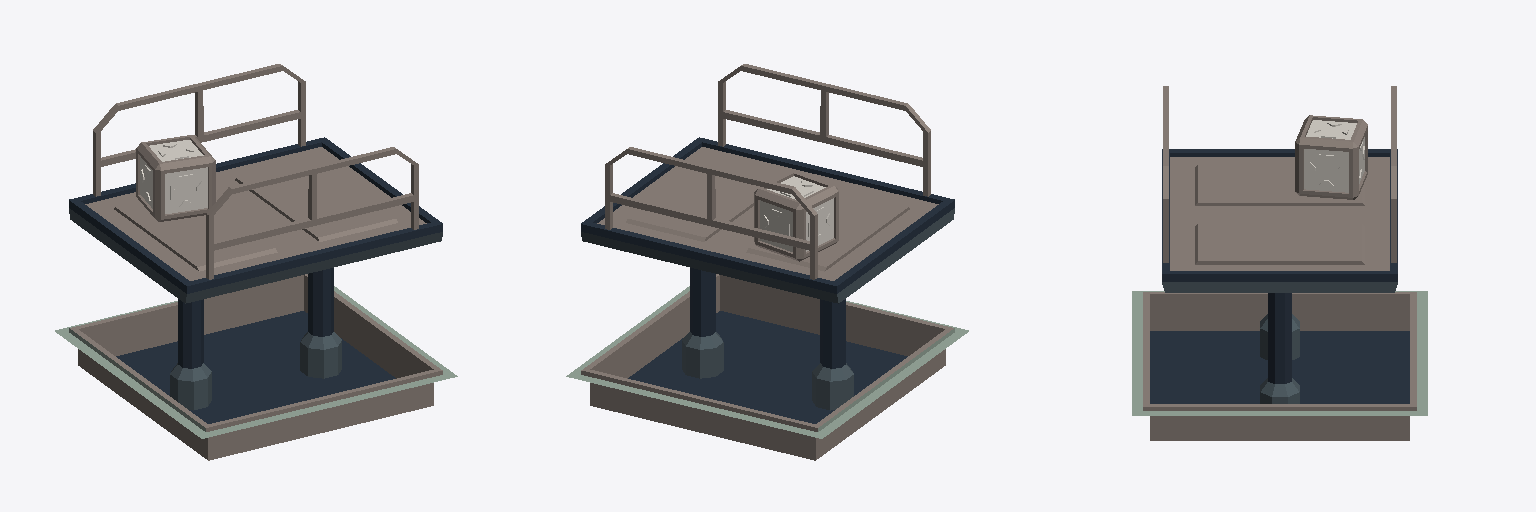
3 renders of one model, left to right at view 1: azimuth 30°, elevation 25°; view 2: azimuth 150°, elevation 25°; view 3: azimuth 270°, elevation 25°, orthographic.
Parts seen in each view (by area): view 1: Cube.003_Cube.002; view 2: Cube.003_Cube.002; view 3: Cube.003_Cube.002.
Part boxes in pixels (left/top/right/bottom): Cube.003_Cube.002: left=55, top=64, right=457, bottom=460; Cube.003_Cube.002: left=566, top=64, right=968, bottom=460; Cube.003_Cube.002: left=1132, top=86, right=1427, bottom=440.
Bounding box in the file's own units: 2 × 1.93 × 2.
1 materials, 1 textured.